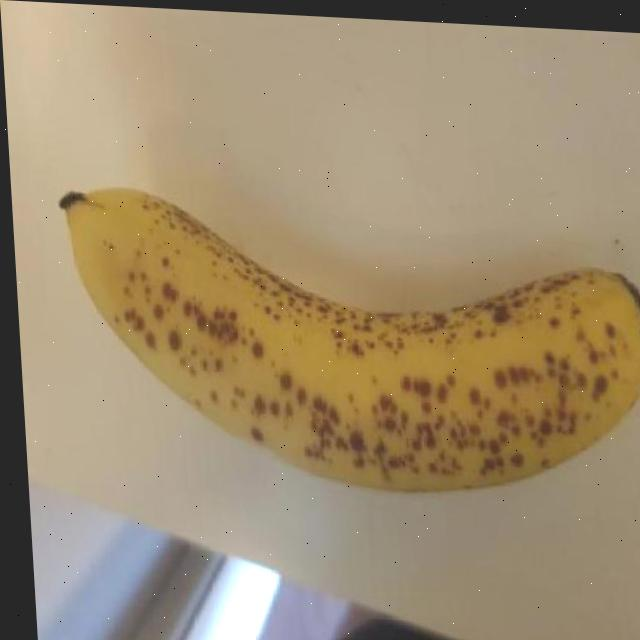banana: (57, 176, 640, 509)
